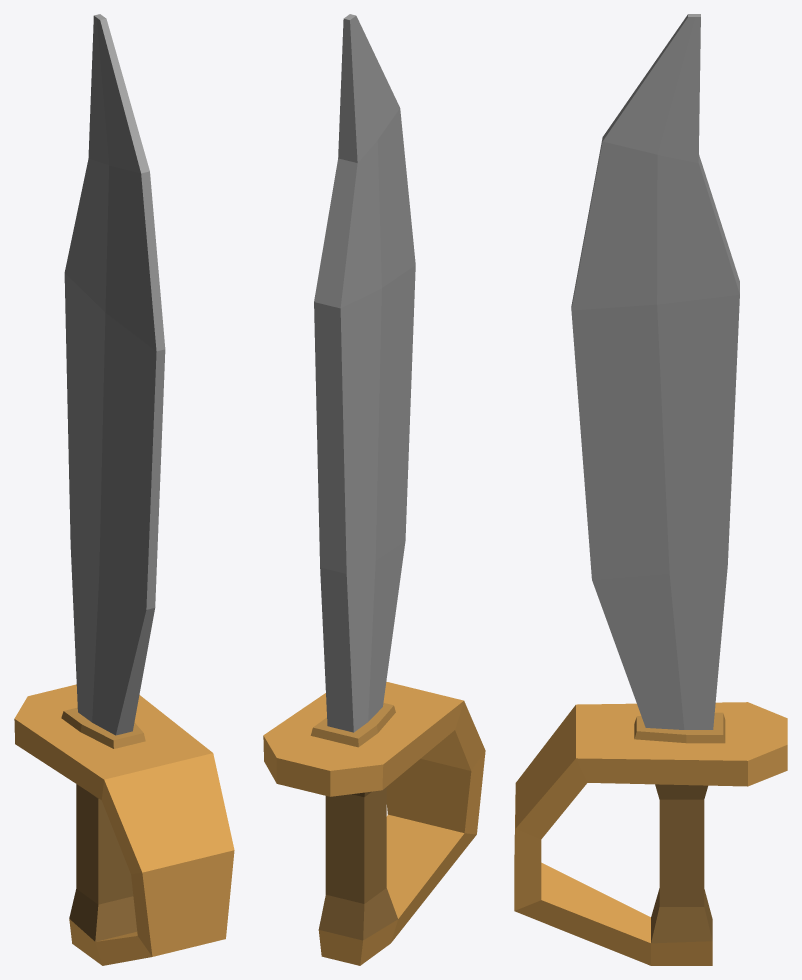
Rendered from Saber.fbx.
The picture shows the model from 3 angles, left to right: view 1: azimuth 30°, elevation 25°; view 2: azimuth 150°, elevation 25°; view 3: azimuth 270°, elevation 25°; orthographic projection.
Parts seen in each view (by area): view 1: Saber; view 2: Saber; view 3: Saber.
Boxes of the visible parts, <box> form: Saber: <box>14,14,234,965</box>; Saber: <box>263,14,485,965</box>; Saber: <box>514,14,787,965</box>.
Bounding box in the file's own units: 6.85 × 51.17 × 13.49.
